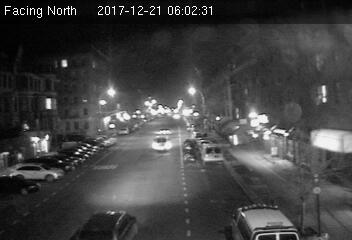car: (150, 135, 173, 152)
police: (229, 198, 306, 238)
truck: (201, 144, 223, 163)
